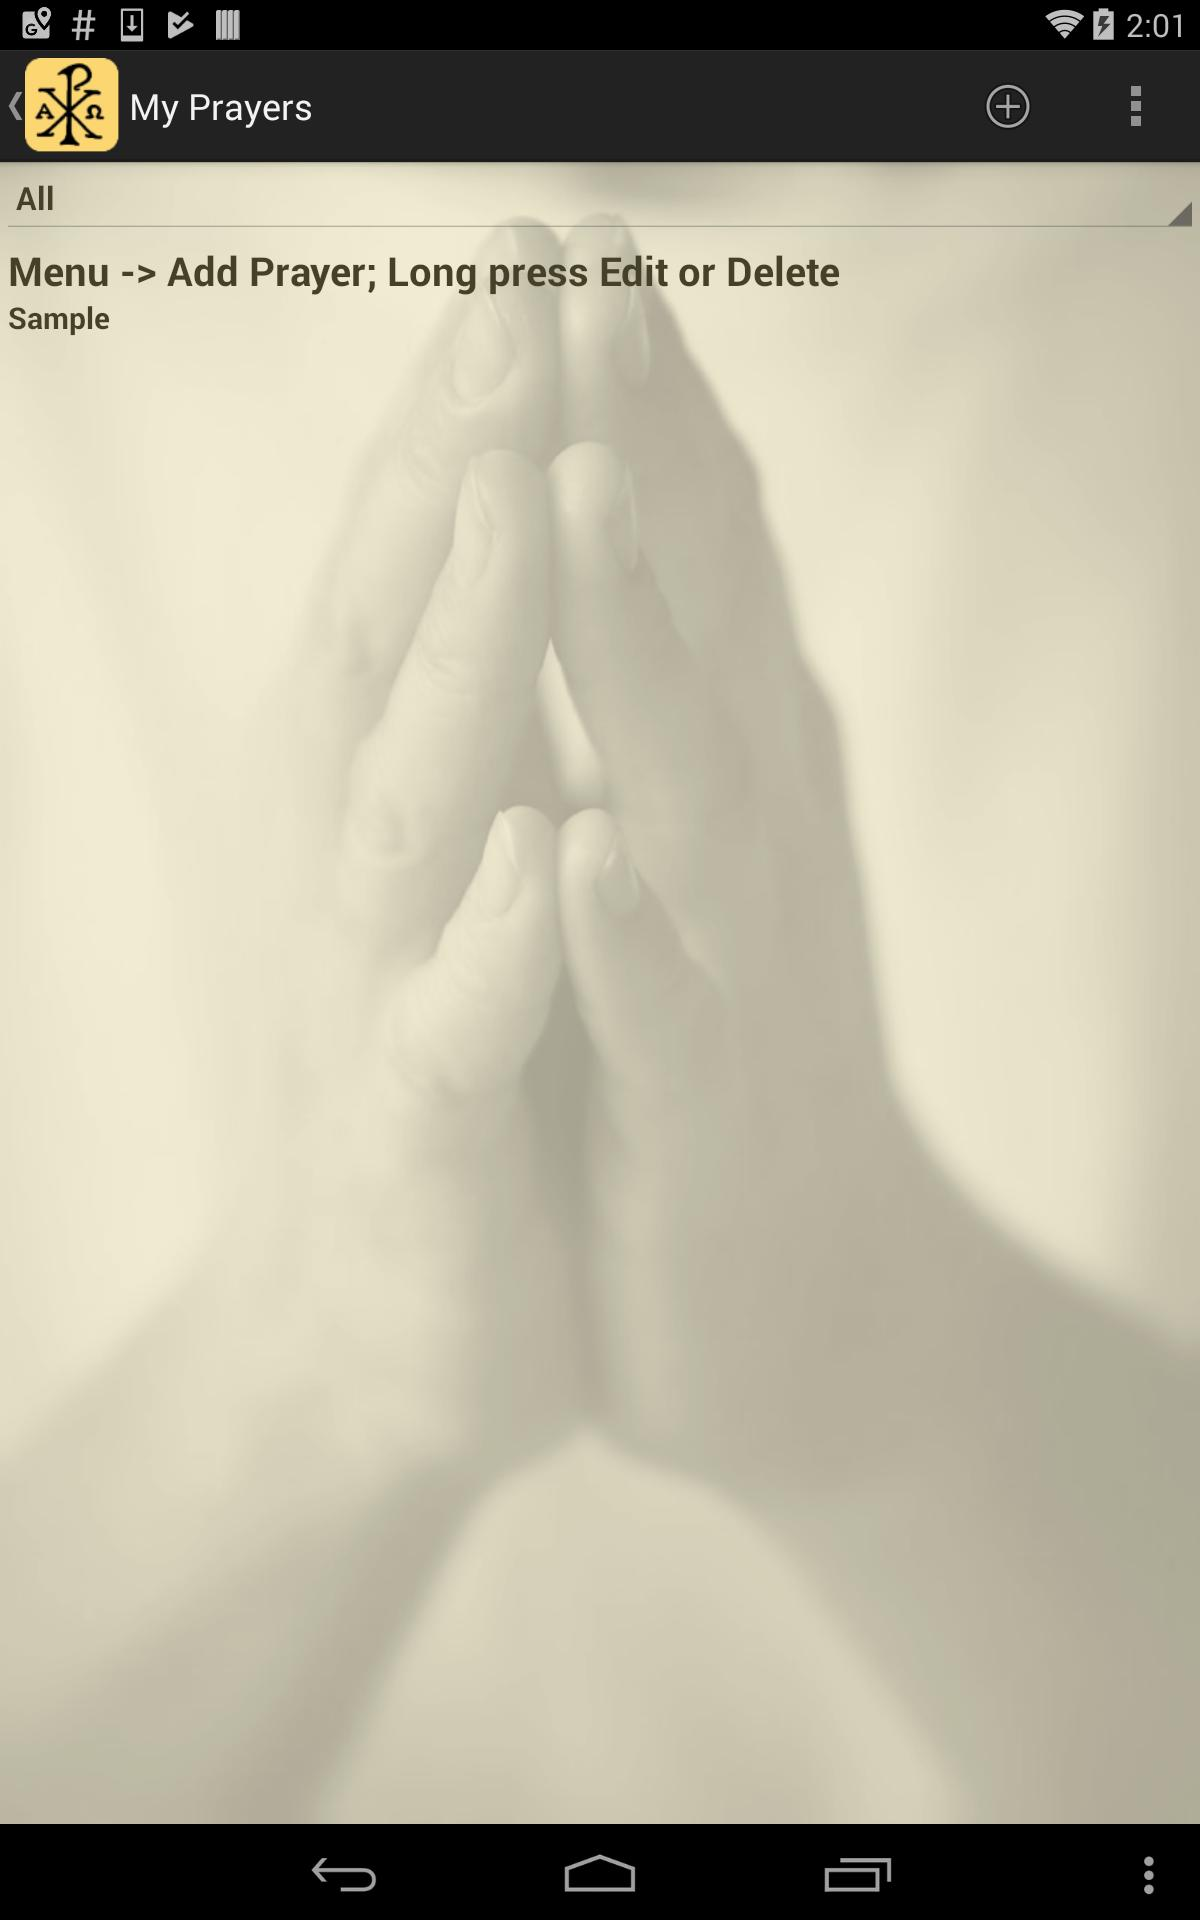android.view.View: (0, 0, 1200, 1825), (0, 162, 1200, 346), (0, 50, 1200, 162)
android.widget.FrameLayout: (0, 0, 1200, 1825), (0, 162, 1200, 1825), (0, 50, 1200, 162), (0, 50, 129, 162)
android.widget.ImageButton: (1071, 50, 1200, 162)
android.widget.ImageView: (25, 58, 122, 153), (0, 90, 32, 122)
android.widget.LinearLayout: (0, 162, 1200, 346), (0, 235, 1200, 346), (0, 50, 329, 162), (944, 50, 1200, 162), (129, 82, 329, 130)
android.widget.Spinner: (0, 162, 1200, 235)
android.widget.TextView: (8, 243, 1192, 297), (8, 176, 1168, 218), (8, 297, 1192, 339), (944, 50, 1071, 162), (129, 82, 312, 130)
